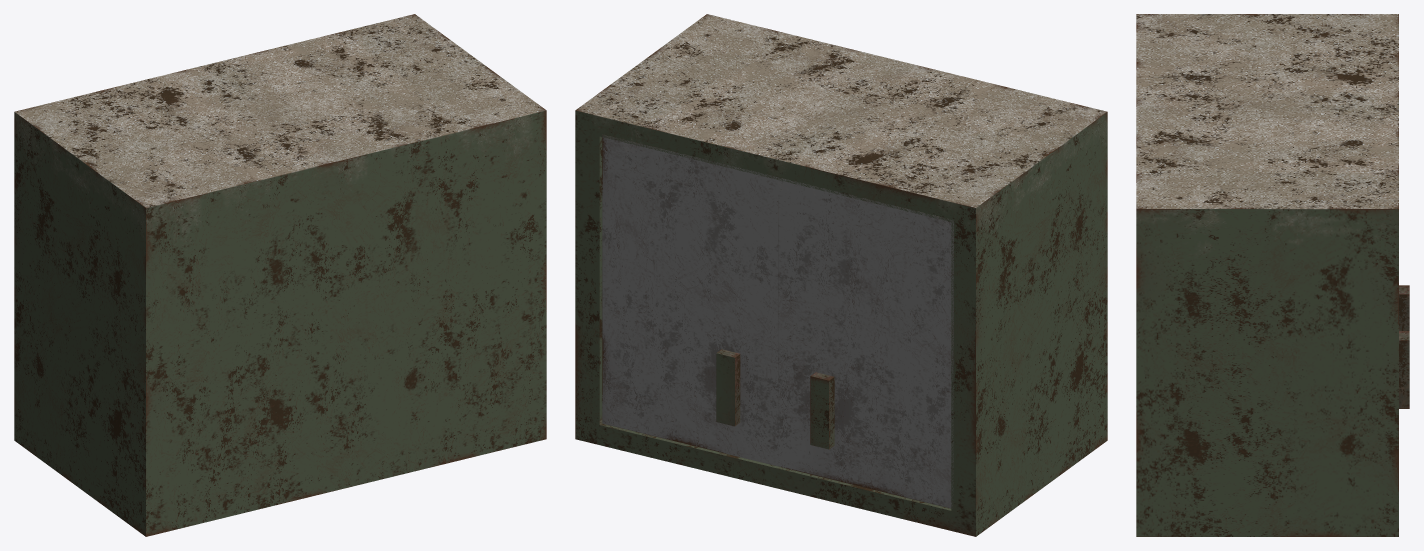
The model's file is CabinetKitchenUp.fbx.
3 renders of one model, left to right at view 1: azimuth 30°, elevation 25°; view 2: azimuth 150°, elevation 25°; view 3: azimuth 270°, elevation 25°, orthographic.
Visible parts, largest first — view 1: kitchenUp; view 2: kitchenUp, doorKitchenUp; view 3: kitchenUp, doorKitchenUp.
Boxes of the visible parts, x1=… form: kitchenUp: x1=14, y1=14, x2=546, y2=536; kitchenUp: x1=575, y1=14, x2=1107, y2=536; doorKitchenUp: x1=602, y1=134, x2=953, y2=508; kitchenUp: x1=1136, y1=14, x2=1398, y2=536; doorKitchenUp: x1=1399, y1=285, x2=1409, y2=408.
Bounding box in the file's own units: 0.6518 × 0.5111 × 0.3864.
Materials: 1 (1 with a texture image).
